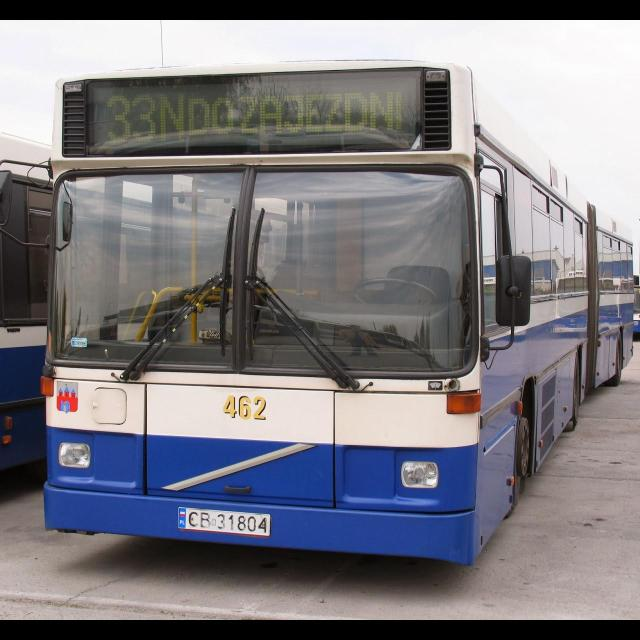Bus: (40, 60, 636, 565)
